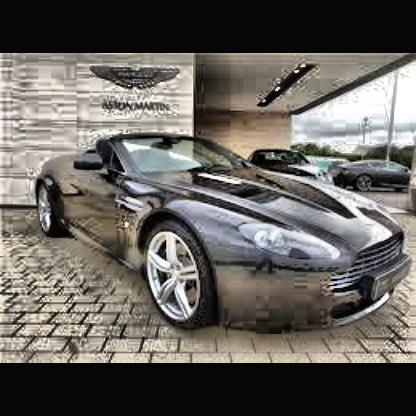Aston Martin V8 Vantage Convertible 2012: (36, 136, 412, 334)
